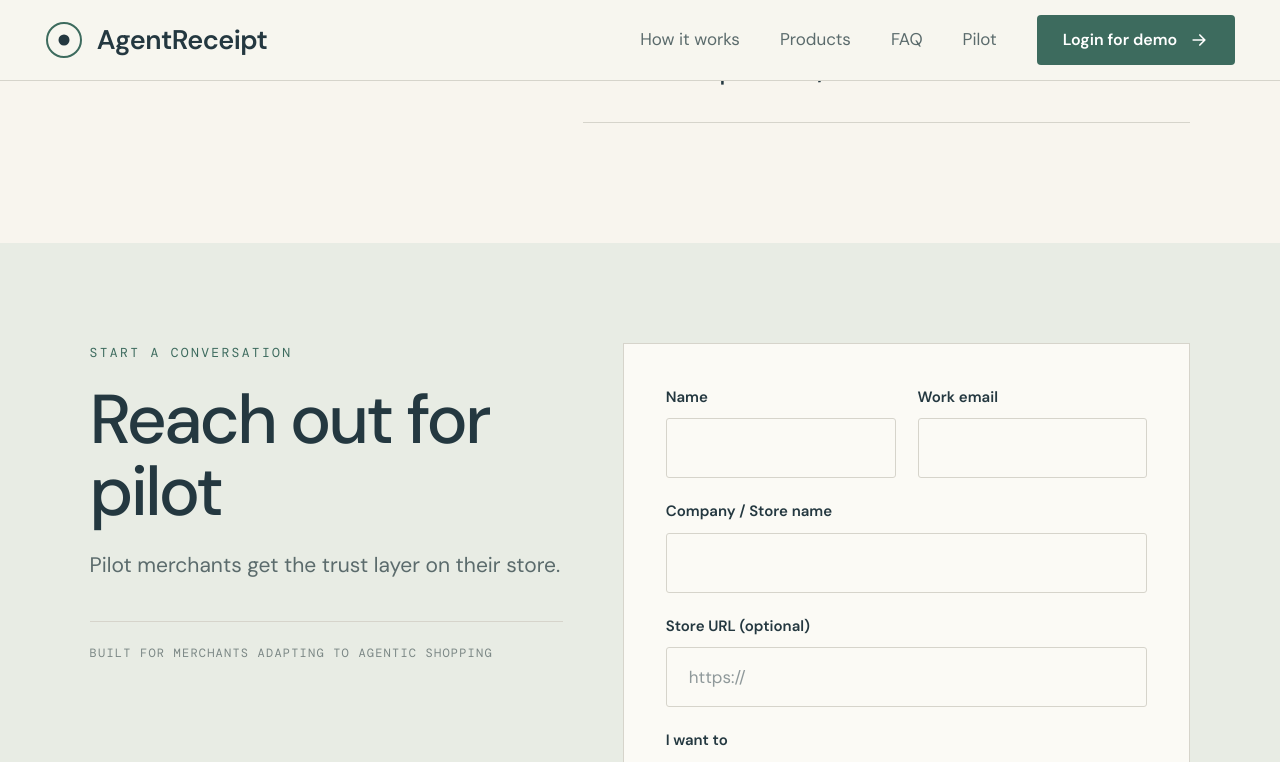
Test: Home page › the pilot form has the specified fields and saves one row to pilot_requests
The image size is (1280, 762).
(page scrolled)
Type "Test Person" into the field labelled "Name" at (781, 448), box [666,418,896,478]
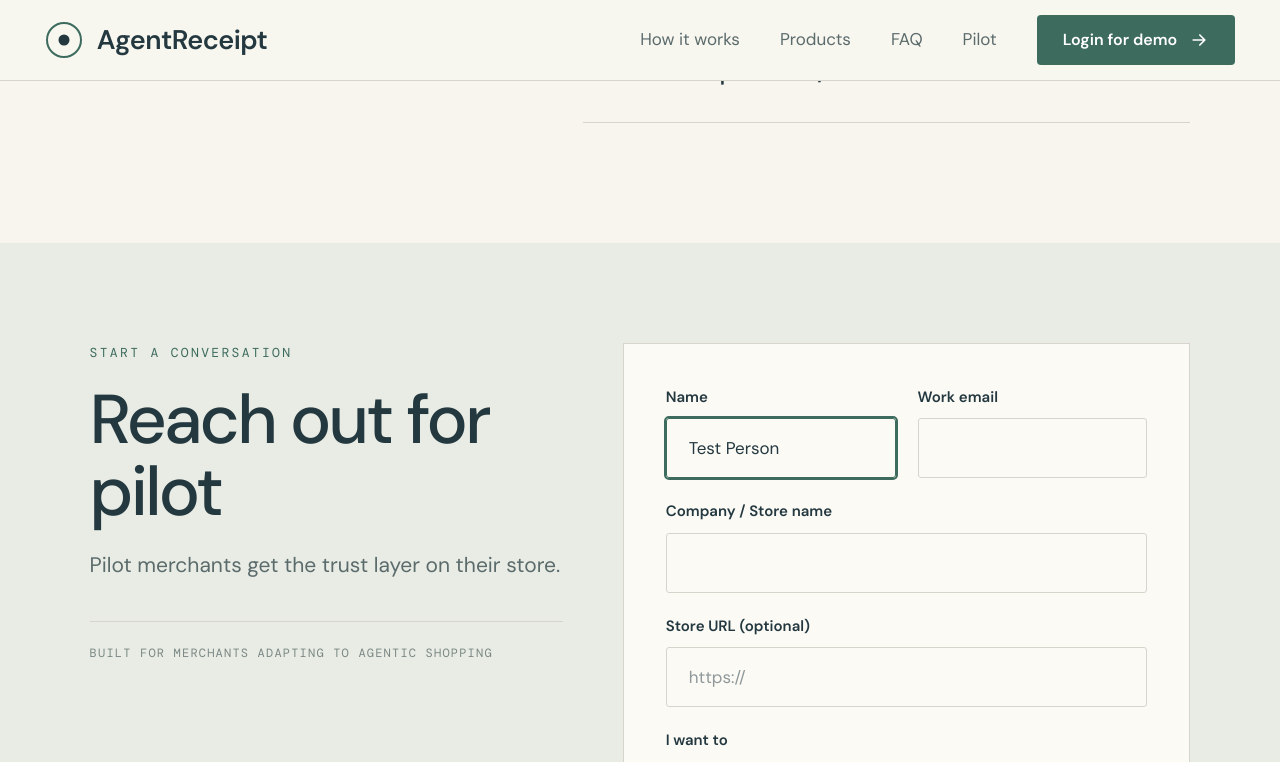
Type "test@example.com" into the field labelled "Work email" at (1032, 448), box [918,418,1147,478]
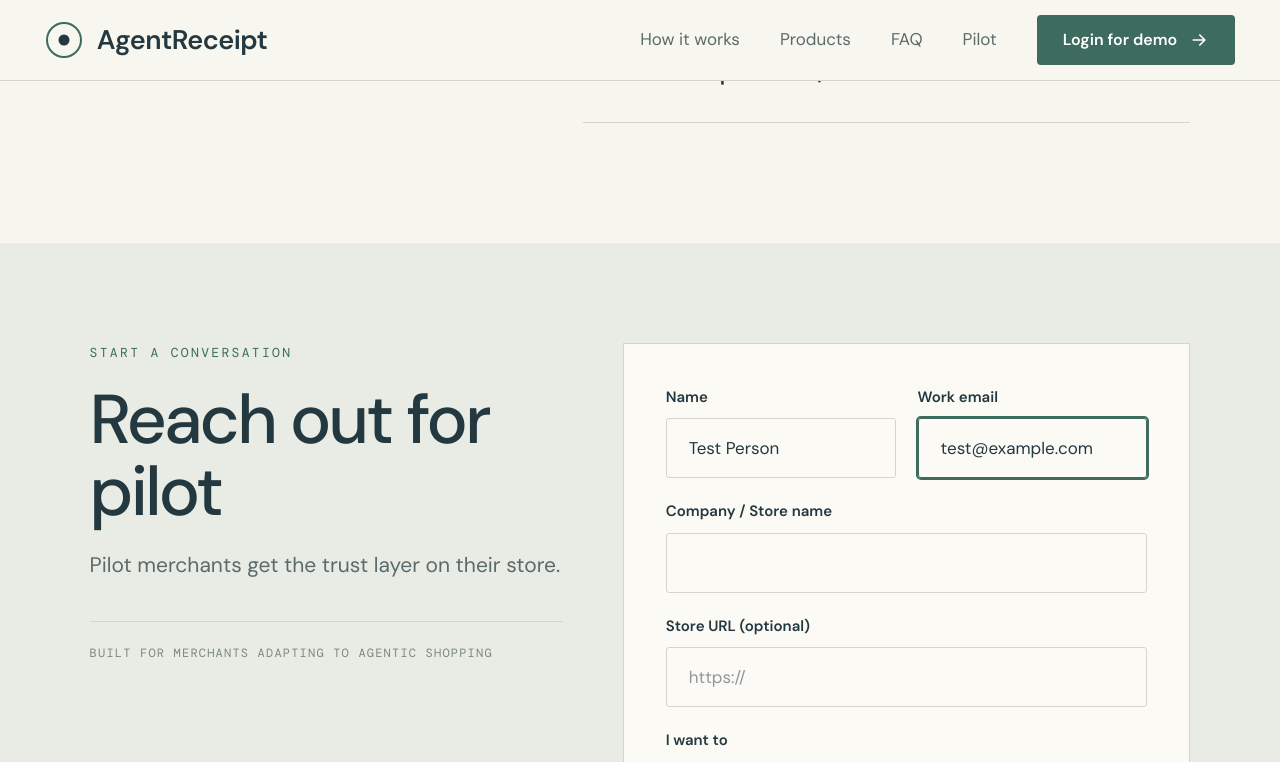
Type "Example Store" into the field labelled "Company / Store name" at (907, 563), box [666,533,1147,593]
(page scrolled)
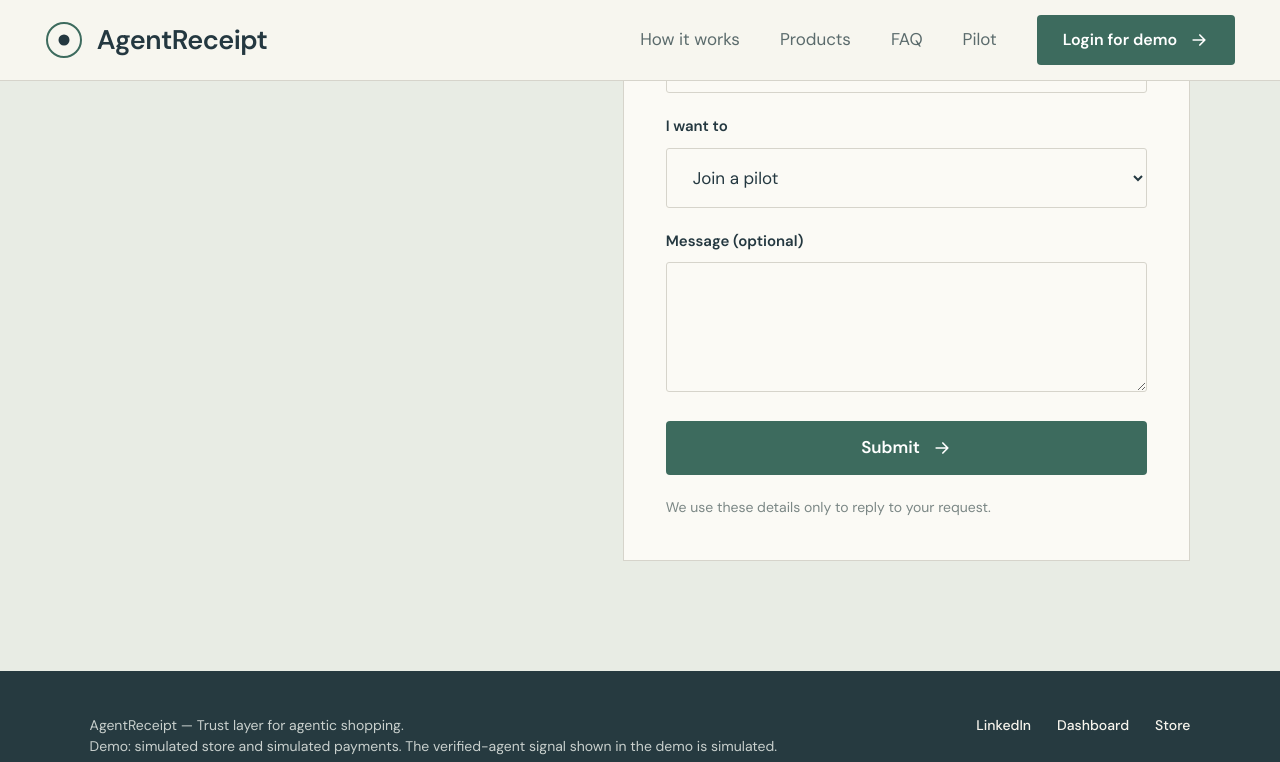
Click the button "Submit" at (907, 448), box [666,421,1147,475]
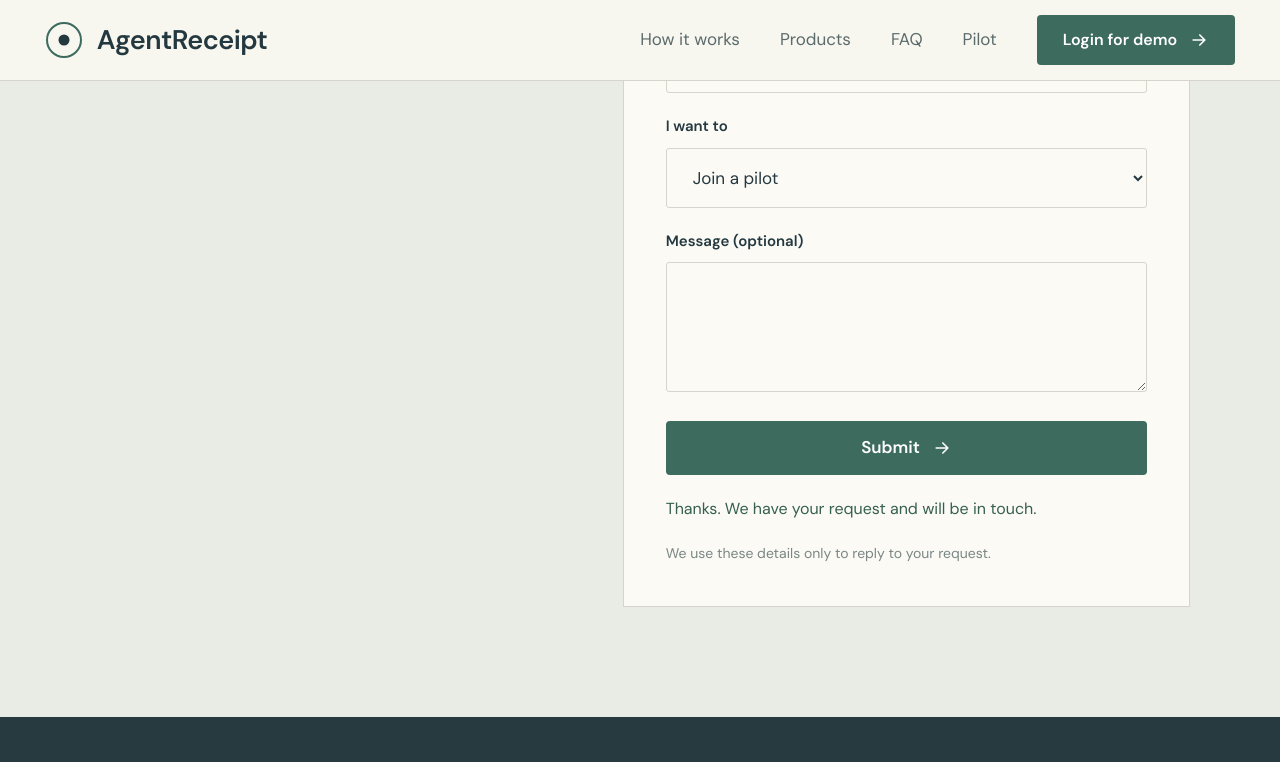
Expected: the message reads "Thanks. We have your request and will be in touch.", [666,498,1036,519]
